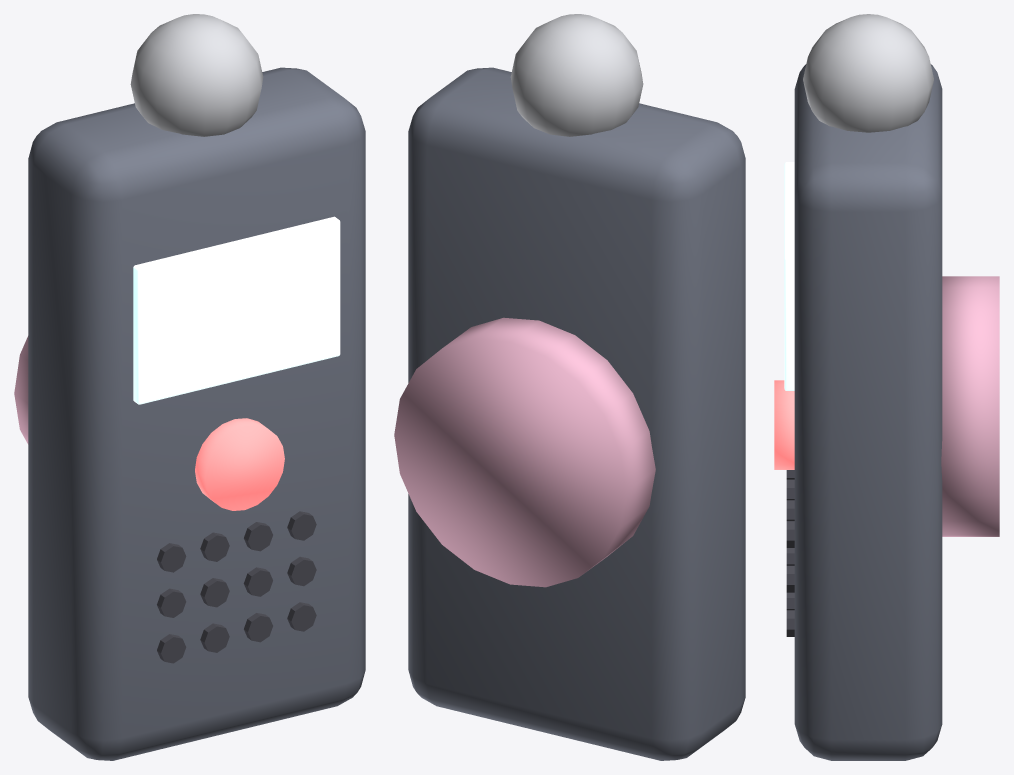
Rendered from ITEM_Recorder.fbx.
3 views of the same model, side by side, from view 1: azimuth 30°, elevation 25°; view 2: azimuth 150°, elevation 25°; view 3: azimuth 270°, elevation 25° (orthographic).
Visible parts, largest first — view 1: ITEM_Recorder; view 2: ITEM_Recorder; view 3: ITEM_Recorder.
Part boxes in pixels (left/top/right/bottom): ITEM_Recorder: left=14, top=14, right=365, bottom=760; ITEM_Recorder: left=394, top=14, right=745, bottom=760; ITEM_Recorder: left=774, top=14, right=999, bottom=760.
Bounding box in the file's own units: 8 × 18.4 × 5.5.
